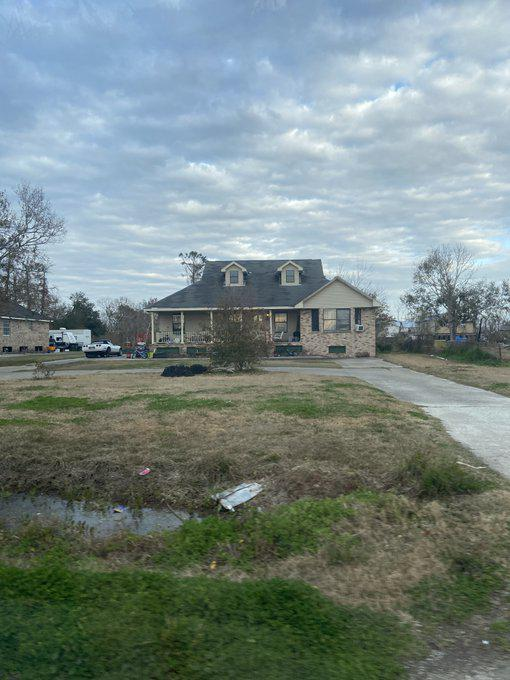affected: (152, 247, 379, 360)
